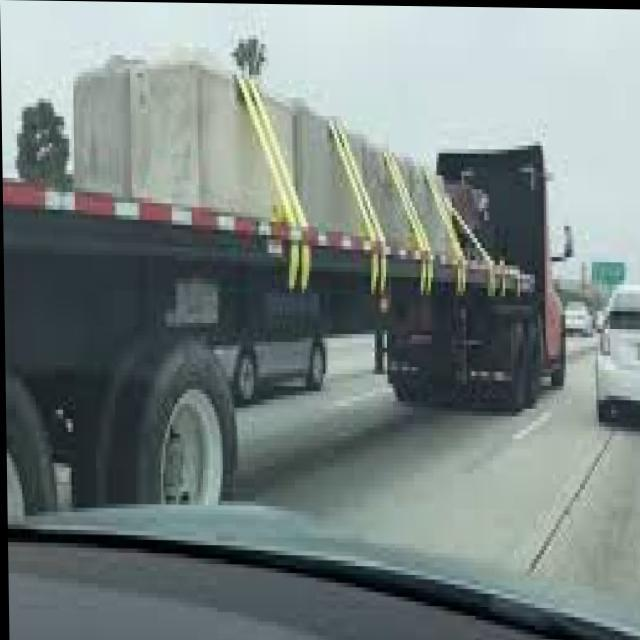uncovered: (1, 58, 570, 540)
